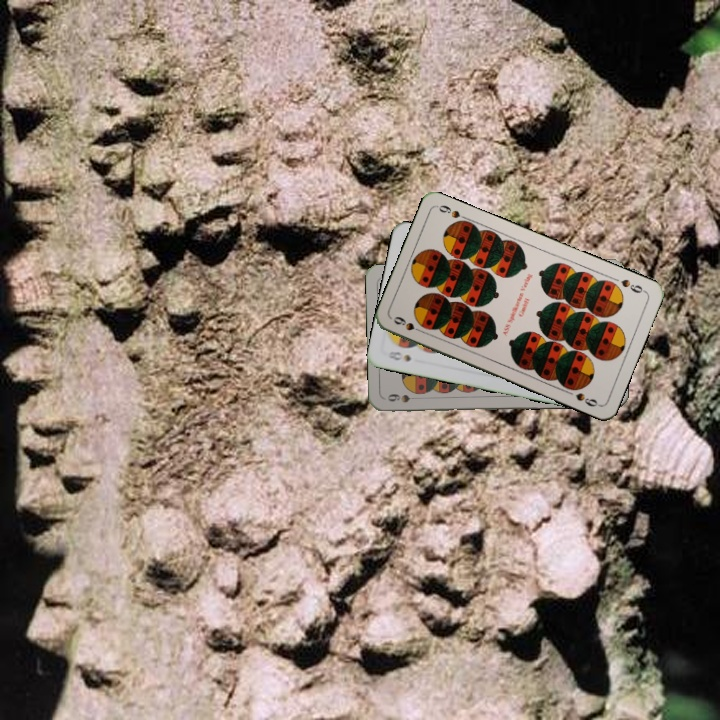S8: (383, 347, 414, 364)
S9: (389, 312, 428, 336), (617, 275, 648, 296), (384, 390, 423, 405)
